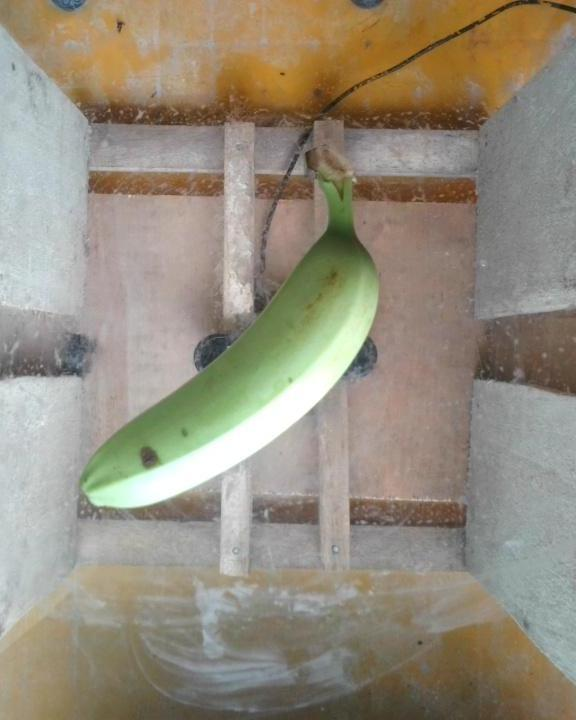CLASS B: (55, 143, 402, 518)
Class A: (287, 272, 349, 341), (130, 440, 172, 473), (167, 416, 200, 442)
